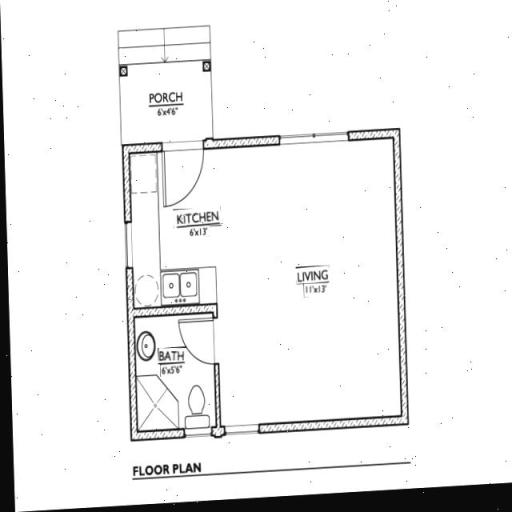bathroom: (136, 324, 218, 427)
hall: (258, 153, 408, 432)
kitchen: (138, 148, 242, 324)
porch: (128, 63, 215, 139)
